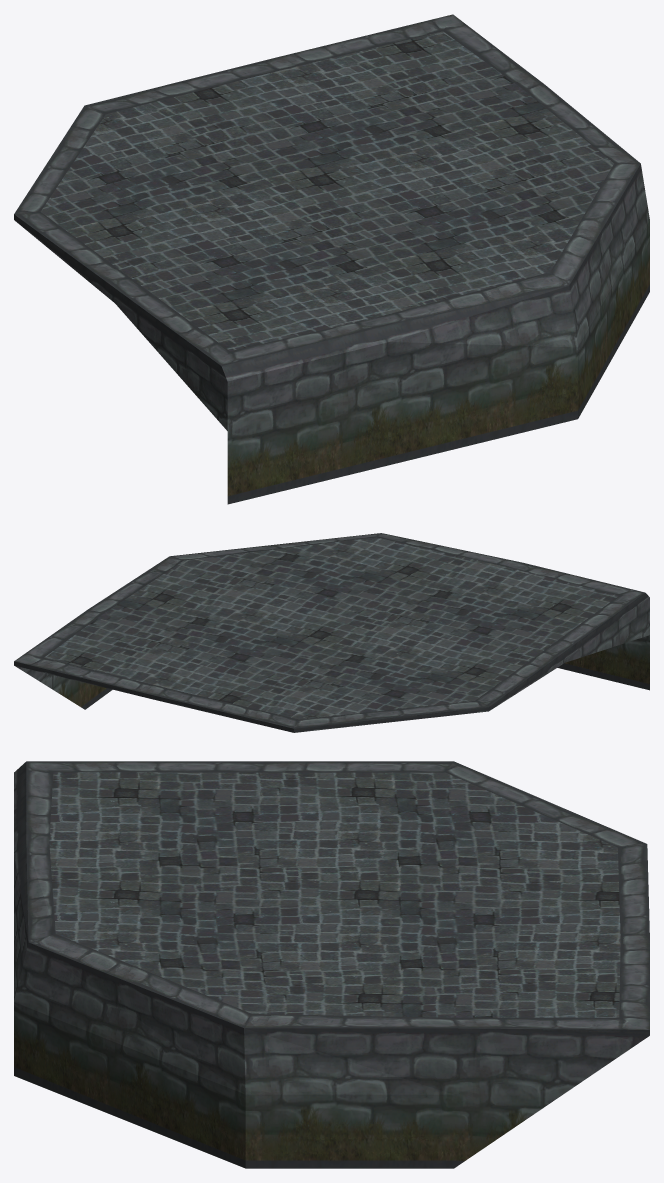
Rendered from terrain_towncenterstone05.fbx.
3 renders of one model, top to bottom at view 1: azimuth 30°, elevation 25°; view 2: azimuth 150°, elevation 25°; view 3: azimuth 270°, elevation 25°, orthographic. The views are drawn at different scales.
Parts seen in each view (by area): view 1: obj1.060; view 2: obj1.060; view 3: obj1.060.
Part boxes in pixels (x1,y1,x2,y2): obj1.060: (14, 14, 649, 504); obj1.060: (14, 533, 649, 732); obj1.060: (14, 761, 649, 1168).
Size of the model in its own units: 12.32 by 2.95 by 12.32.
